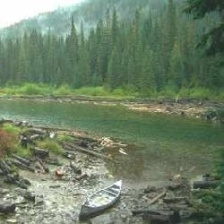neutral: (4, 2, 221, 220)
